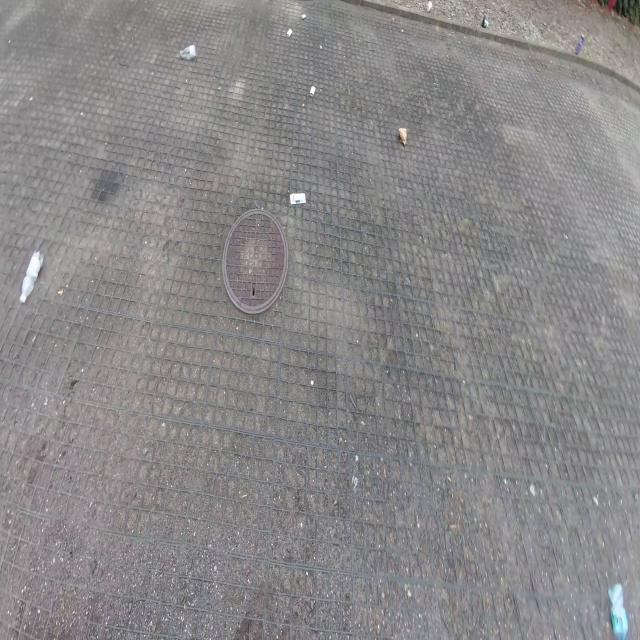rubbish: (19, 249, 44, 305), (607, 583, 629, 640), (181, 43, 198, 60), (574, 33, 585, 55), (289, 192, 306, 205), (398, 125, 407, 146), (481, 18, 490, 28), (309, 85, 316, 96), (286, 27, 293, 37), (427, 2, 433, 10), (302, 14, 306, 20)
